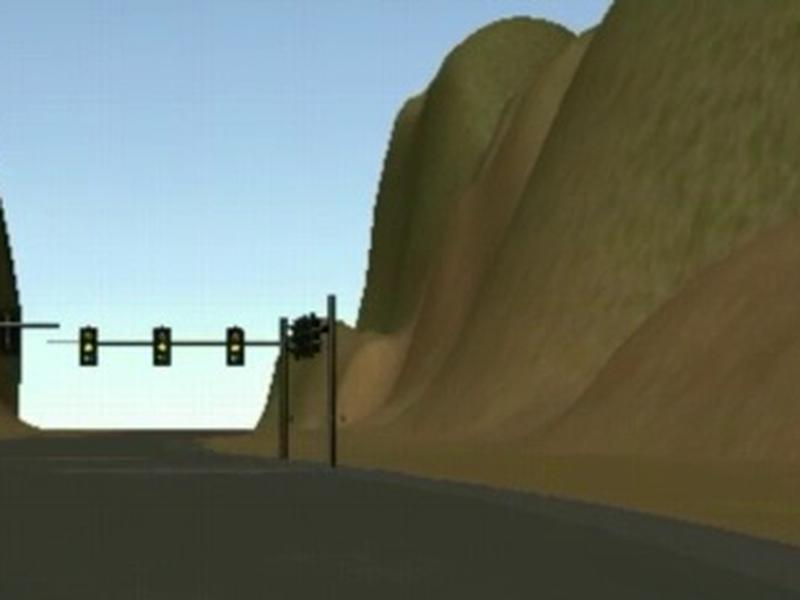Yellow: (80, 325, 98, 365), (226, 327, 244, 366), (153, 326, 170, 366)
